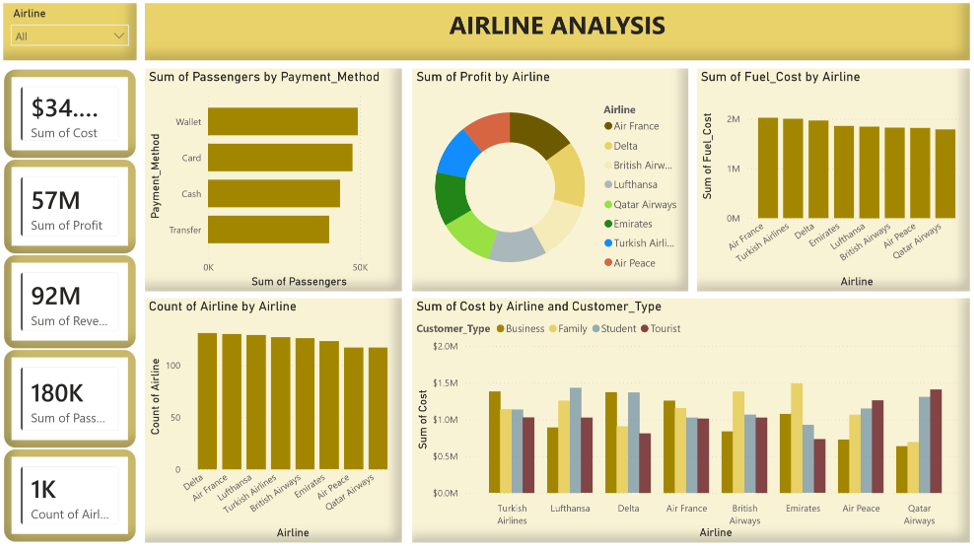

The page's visual inventory and layout, read from the dashboard file:
{"tool":"powerbi","page":{"name":"Page 1","canvas":[1280,720],"ordinal":0},"visuals":[{"type":"cardVisual","fields":{"Data":["Sum(Fact_Flights.Cost)"]},"box":[0,95,182.9,116.6],"z":0},{"type":"cardVisual","fields":{"Data":["CountNonNull(Fact_Flights.Airline)"]},"box":[0,587.5,182.9,122.4],"z":1000},{"type":"cardVisual","fields":{"Data":["Sum(Fact_Flights.Passengers)"]},"box":[0,459.4,182.9,128.2],"z":2000},{"type":"cardVisual","fields":{"Data":["Sum(Fact_Flights.Revenue)"]},"box":[0,335.5,182.9,123.8],"z":3000},{"type":"cardVisual","fields":{"Data":["Sum(Fact_Flights.Profit)"]},"box":[0,211.7,182.9,123.8],"z":4000},{"type":"textbox","box":[194.1,9.6,1085.9,74.3],"z":5000},{"type":"columnChart","fields":{"Y":["CountNonNull(Fact_Flights.Airline)"],"Category":["Fact_Flights.Airline"]},"box":[194.1,393.6,333.1,326.2],"z":6000},{"type":"donutChart","fields":{"Category":["Fact_Flights.Airline"],"Y":["Sum(Fact_Flights.Profit)"]},"box":[540.9,95,357.8,289],"z":7000},{"type":"columnChart","fields":{"Category":["Fact_Flights.Airline"],"Y":["Sum(Fact_Flights.Fuel_Cost)"]},"box":[909.8,95,370.2,289],"z":8000},{"type":"clusteredBarChart","fields":{"Category":["Fact_Flights.Payment_Method"],"Y":["Sum(Fact_Flights.Passengers)"]},"box":[194.1,95,333.1,289],"z":9000},{"type":"clusteredColumnChart","fields":{"Category":["Fact_Flights.Airline"],"Y":["Sum(Fact_Flights.Cost)"],"Series":["Fact_Flights.Customer_Type"]},"box":[540.9,393.6,739.1,326.2],"z":10000},{"type":"slicer","fields":{"Values":["Fact_Flights.Airline"]},"box":[0,10.1,182.9,73.4],"z":11000}]}

Visuals, with their boxes in screenshot pixels (x1, y1, x2, y2), scaled from the page's 1280x720 canvas onto the 974x546 screenshot:
cardVisual - Sum(Fact_Flights.Cost): bbox=(0, 72, 139, 160)
cardVisual - CountNonNull(Fact_Flights.Airline): bbox=(0, 446, 139, 538)
cardVisual - Sum(Fact_Flights.Passengers): bbox=(0, 348, 139, 446)
cardVisual - Sum(Fact_Flights.Revenue): bbox=(0, 254, 139, 348)
cardVisual - Sum(Fact_Flights.Profit): bbox=(0, 161, 139, 254)
textbox: bbox=(148, 7, 973, 64)
columnChart - CountNonNull(Fact_Flights.Airline) x Fact_Flights.Airline: bbox=(148, 298, 401, 545)
donutChart - Fact_Flights.Airline x Sum(Fact_Flights.Profit): bbox=(412, 72, 684, 291)
columnChart - Fact_Flights.Airline x Sum(Fact_Flights.Fuel_Cost): bbox=(692, 72, 973, 291)
clusteredBarChart - Fact_Flights.Payment_Method x Sum(Fact_Flights.Passengers): bbox=(148, 72, 401, 291)
clusteredColumnChart - Fact_Flights.Airline x Sum(Fact_Flights.Cost): bbox=(412, 298, 973, 545)
slicer - Fact_Flights.Airline: bbox=(0, 8, 139, 63)
